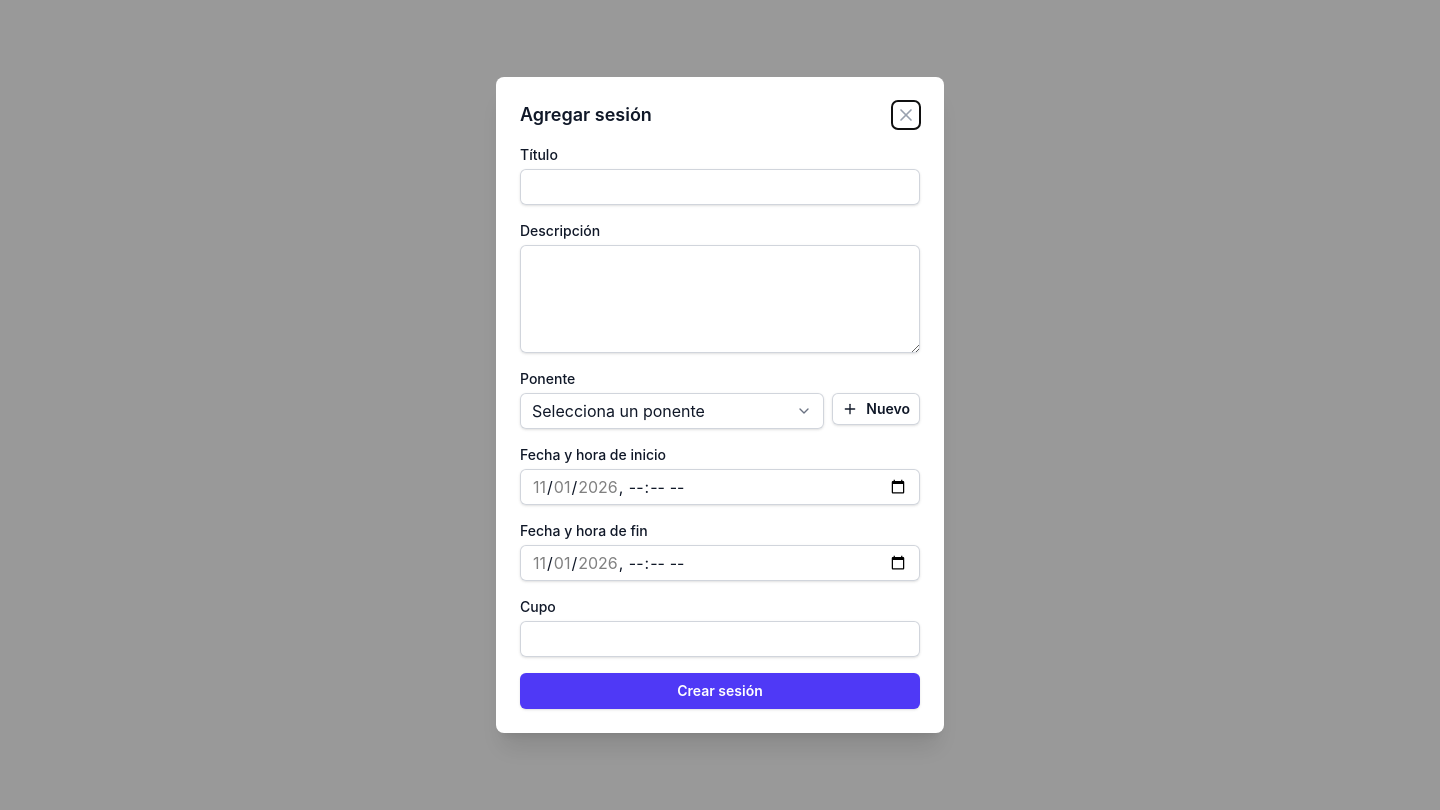
Test: SessionFormDialog › crea una sesión feliz dentro del rango del evento
In the field labelled "Título": (720, 187) [520,169,920,205], type "Charla de cierre"
Click the dropdown labelled "ponente": click(672, 411) [520,393,824,429]
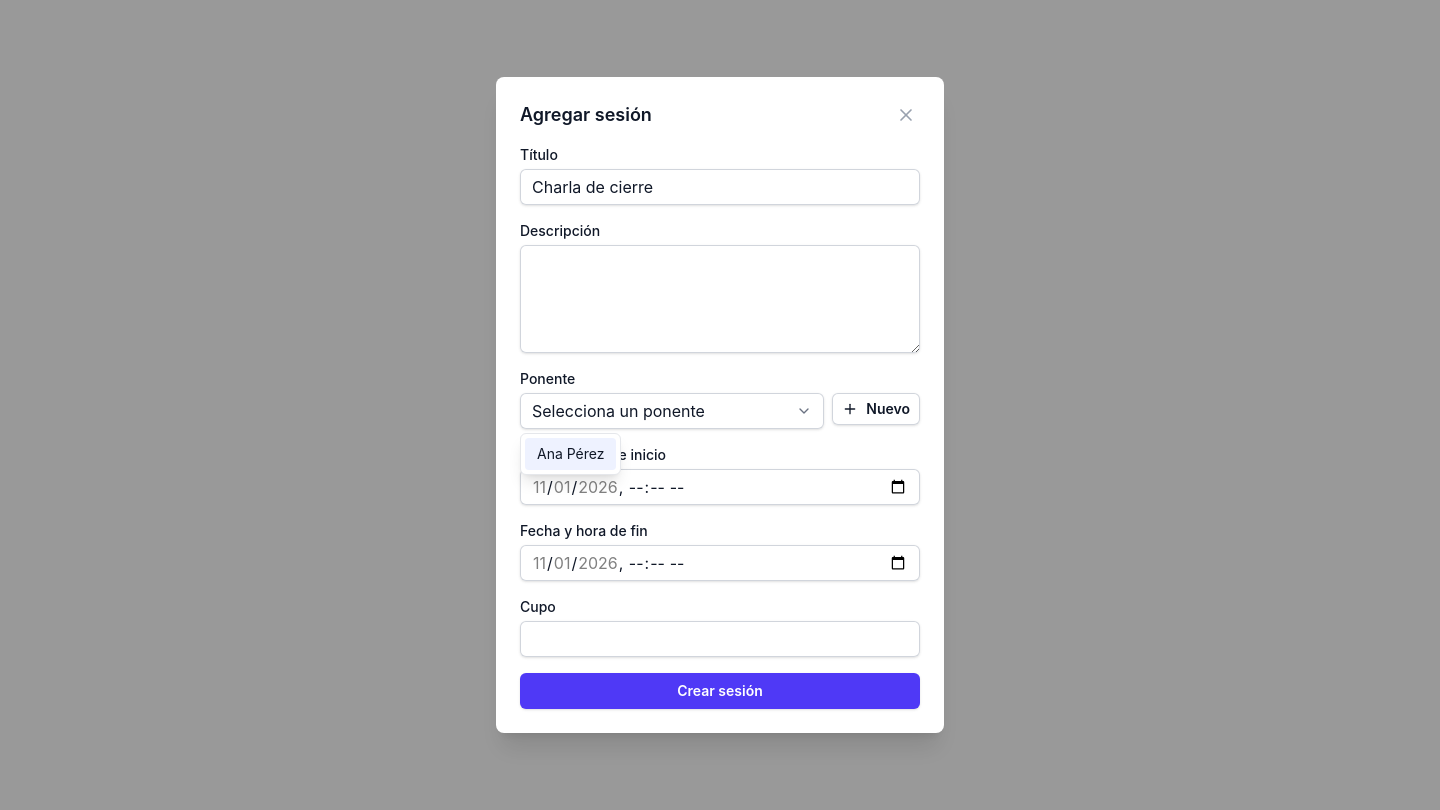
Click the option "Ana Pérez": click(571, 454) [525,438,616,470]
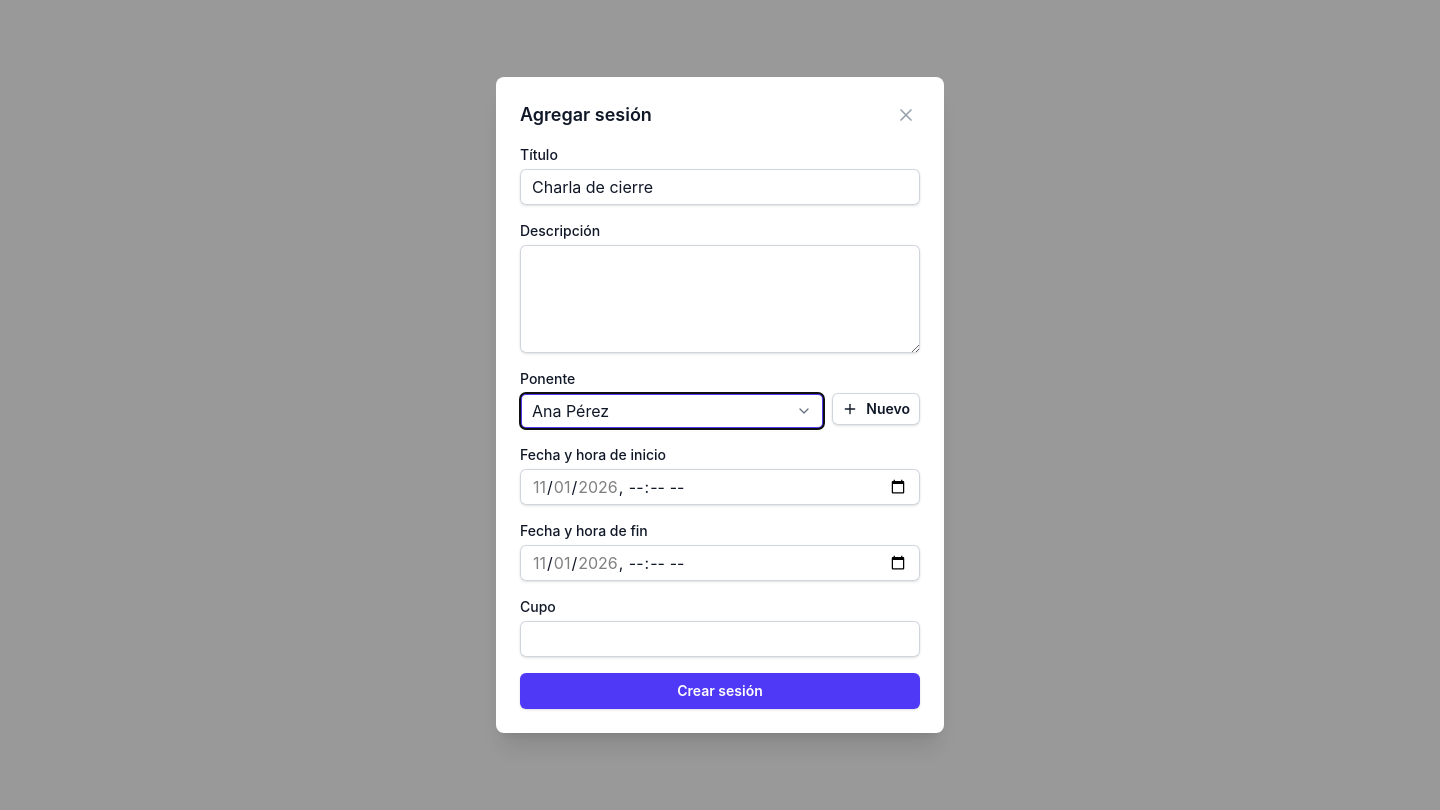
In the field labelled "Fecha y hora de inicio": (720, 487) [520,469,920,505], type "2026-11-01T13:00"
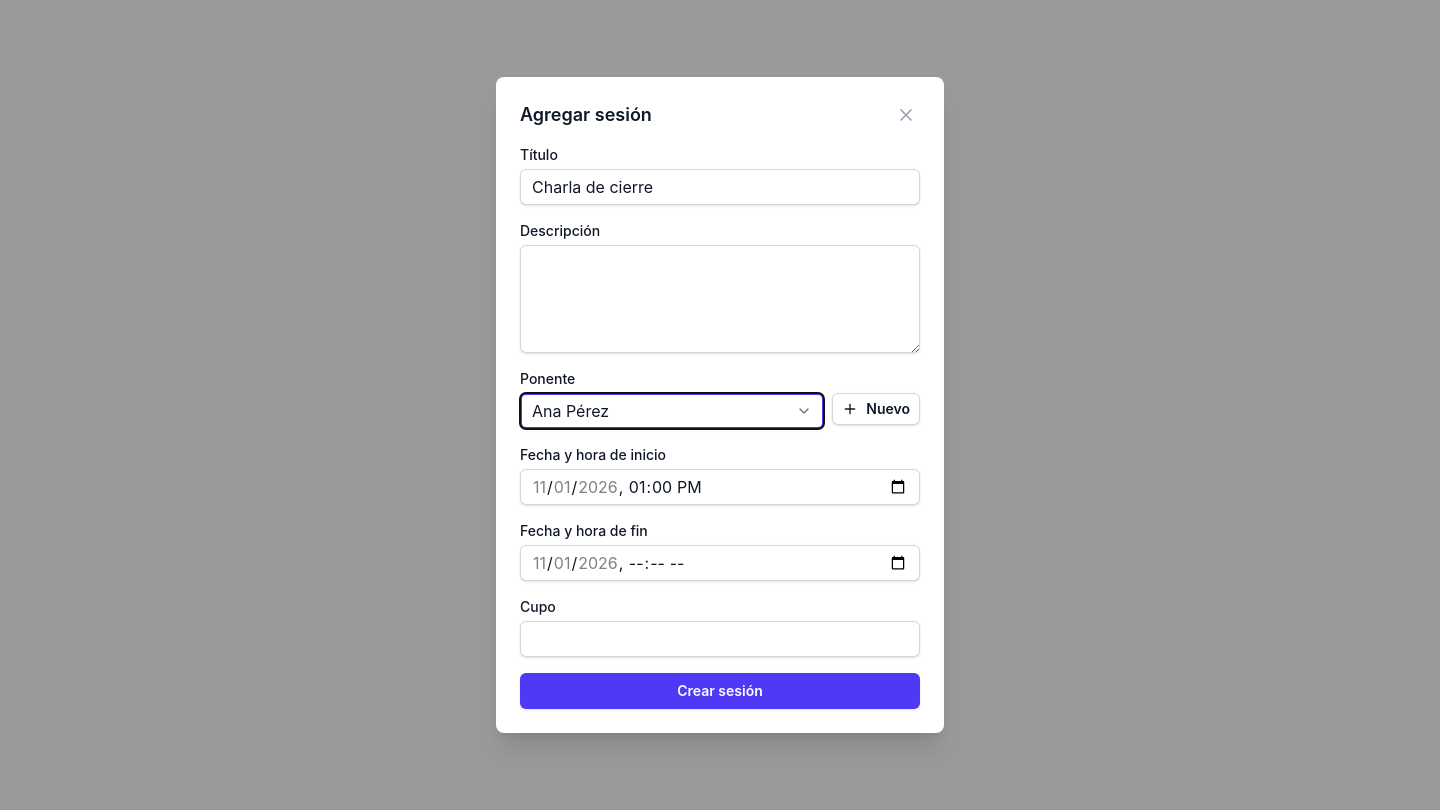
In the field labelled "Fecha y hora de fin": (720, 563) [520,545,920,581], type "2026-11-01T14:00"
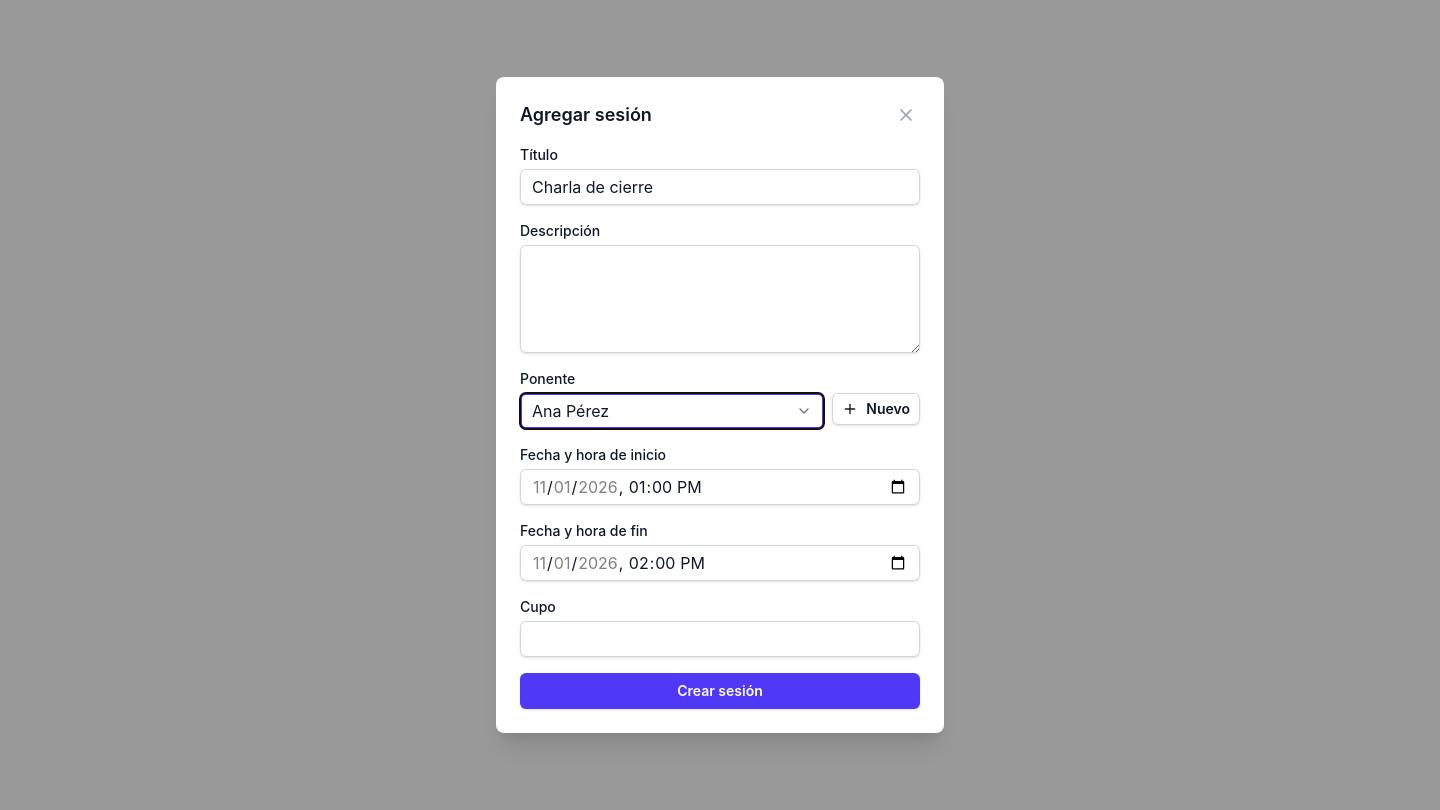
In the number field labelled "Cupo": (720, 639) [520,621,920,657], type "2"
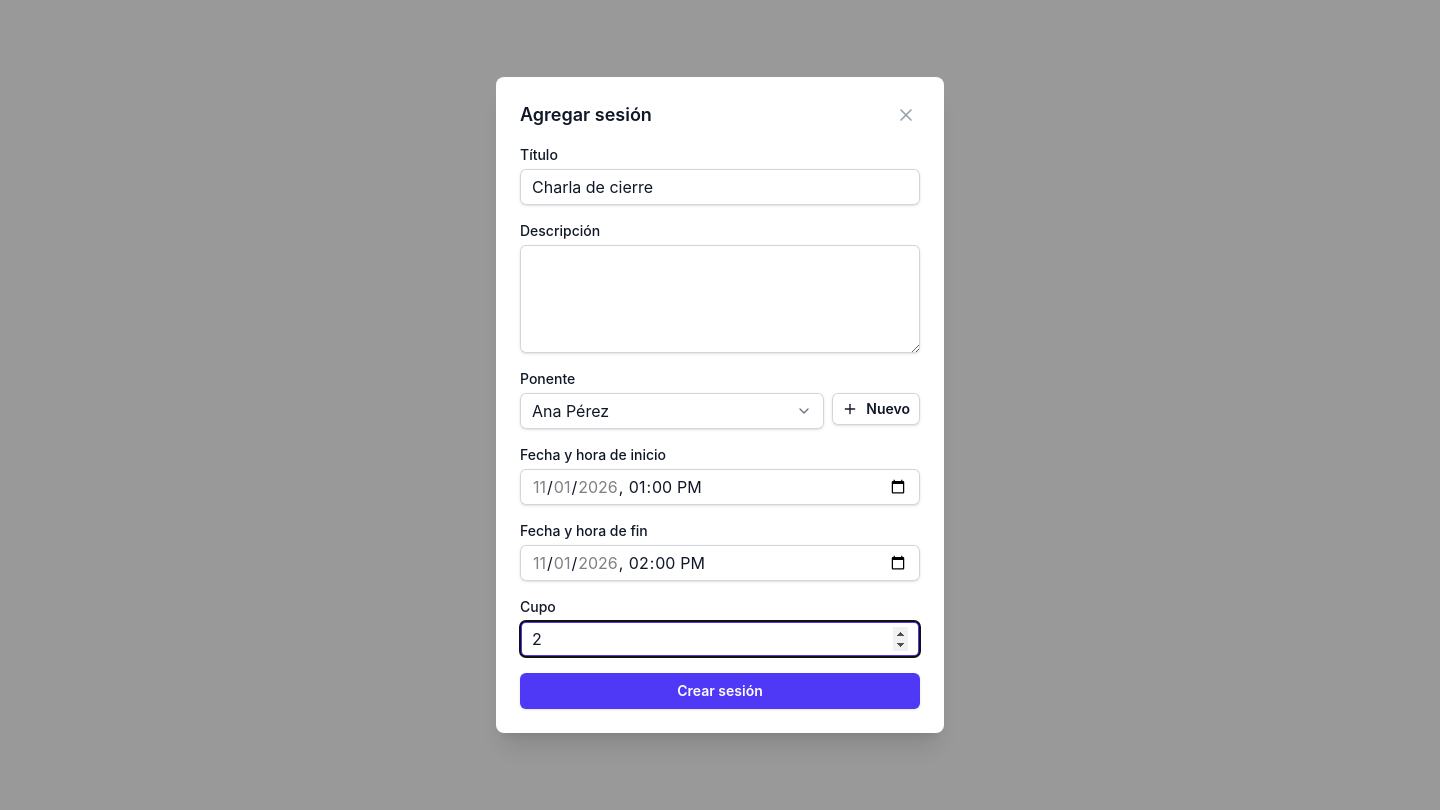
Click the button "Crear sesión": click(720, 691) [520,673,920,709]
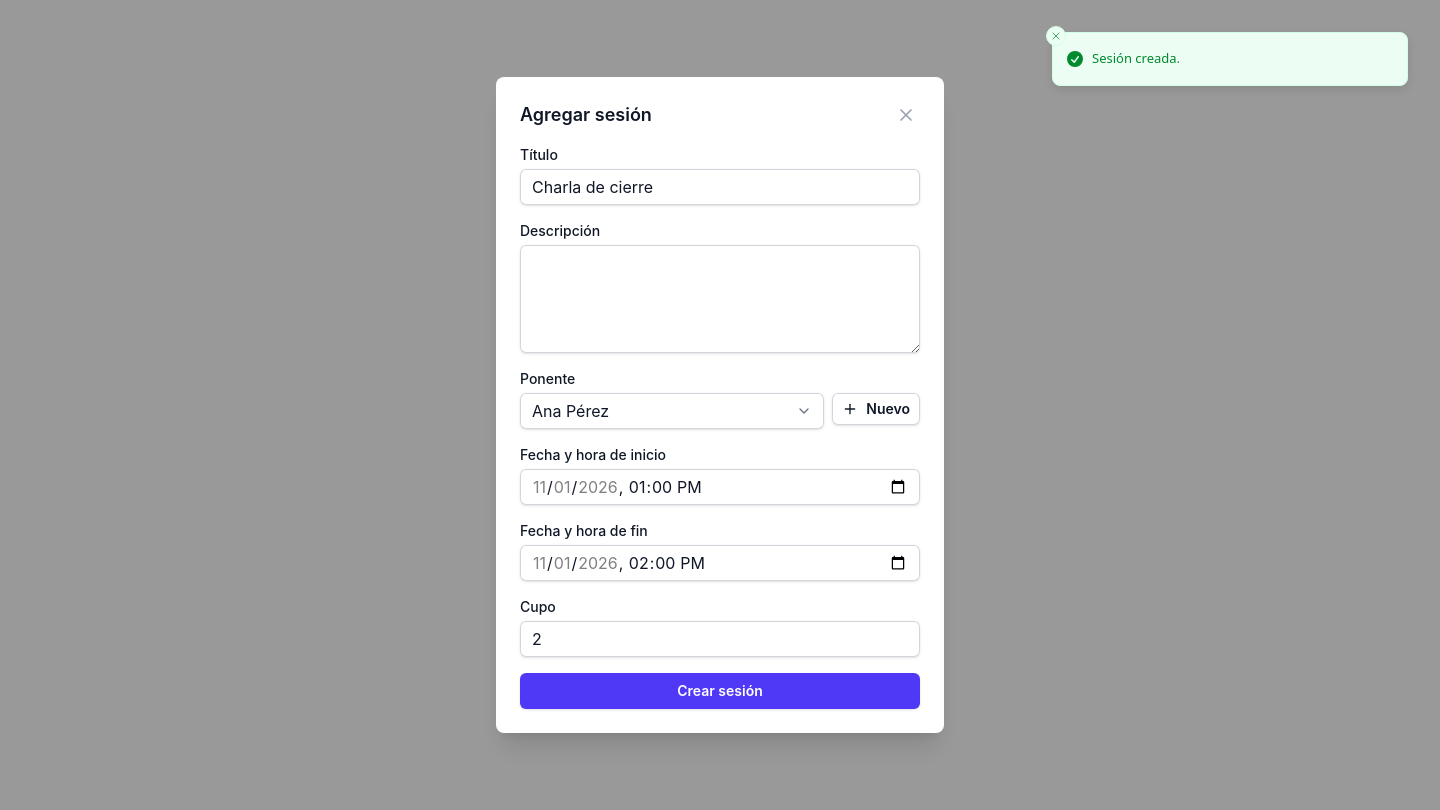
Result: the text "Sesión creada." is shown at [1092,49,1180,68]
